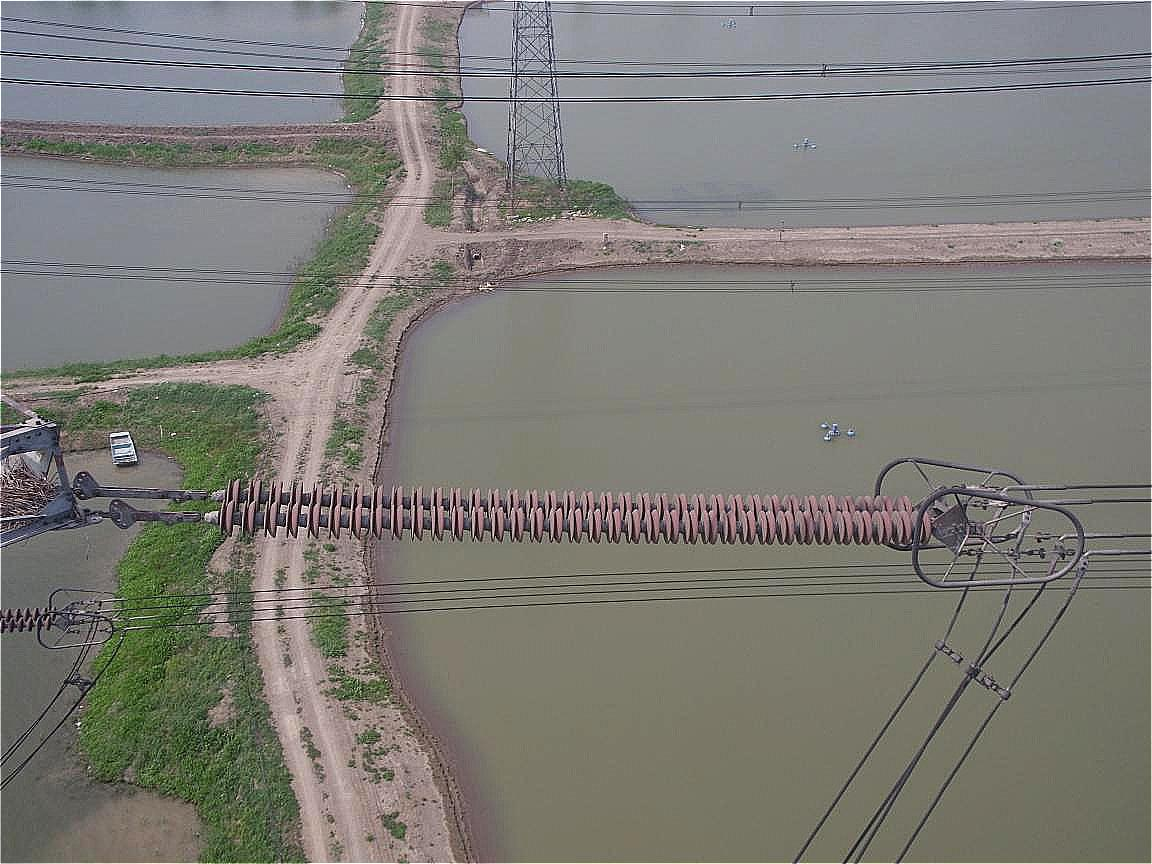insultor2: (171, 467, 969, 569)
